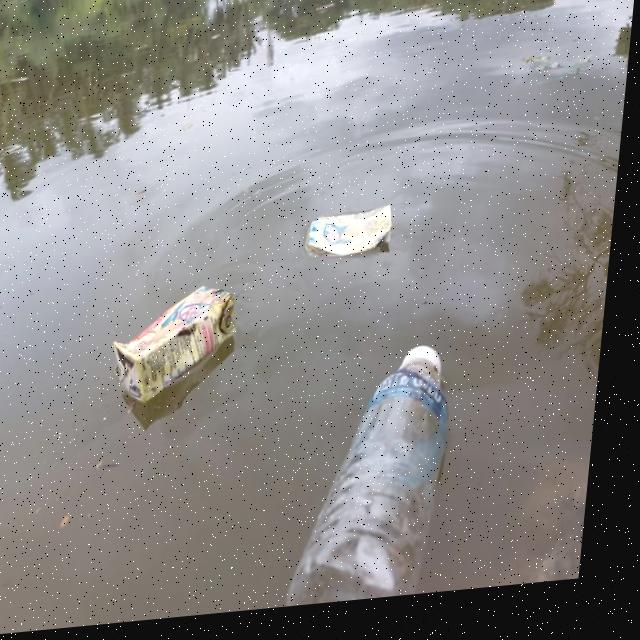paper: (100, 272, 264, 423), (294, 205, 417, 286)
waterbottle: (289, 343, 477, 614)
